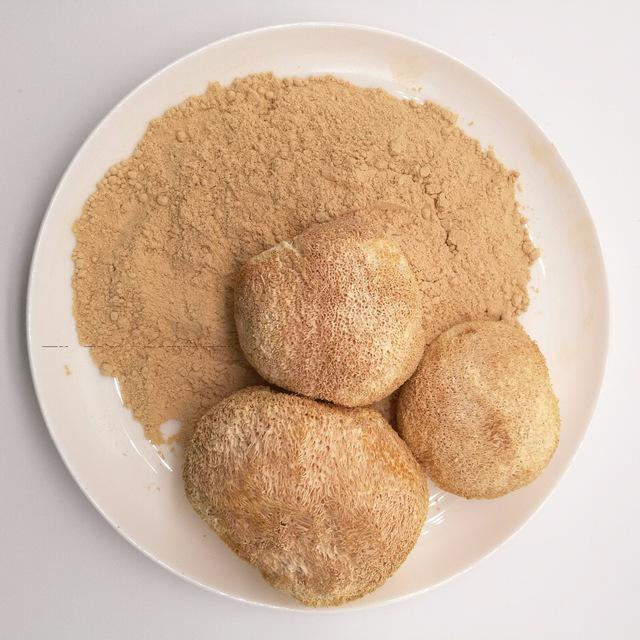Hericium erinaceus: (190, 382, 425, 604), (232, 237, 428, 406), (399, 316, 562, 499)
